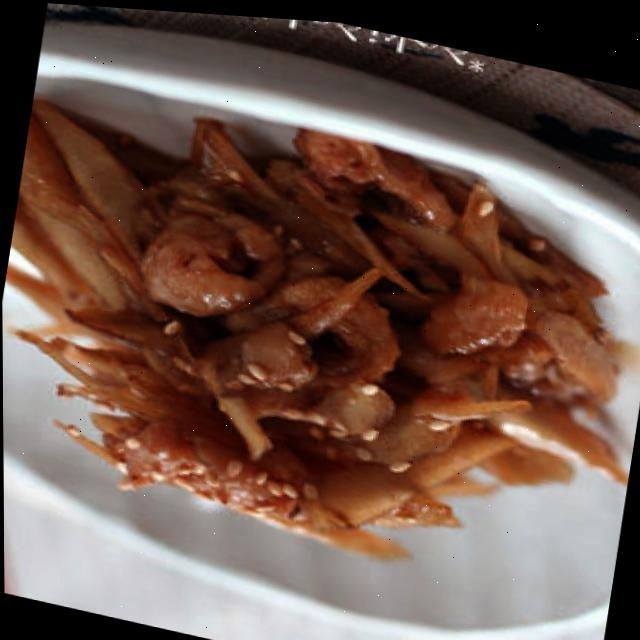蔬菜料理: (0, 32, 640, 616)
